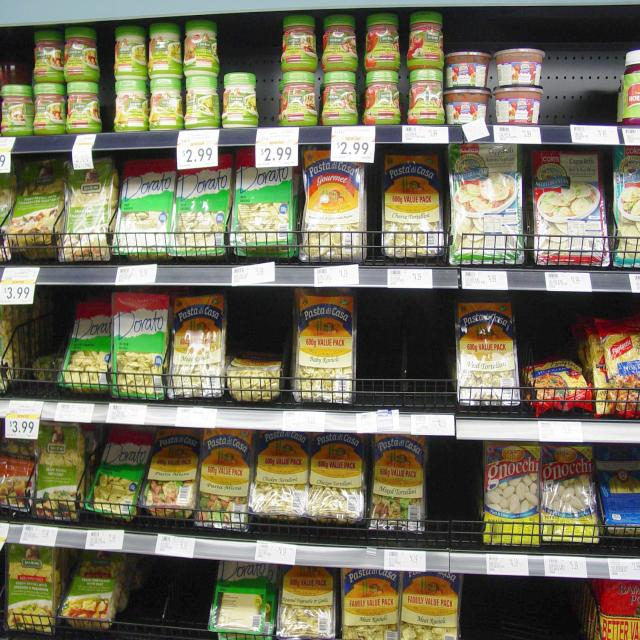empty_space: (363, 309, 451, 395), (464, 590, 588, 640), (552, 44, 616, 120), (130, 568, 202, 628), (430, 469, 482, 539), (20, 309, 60, 377), (239, 312, 285, 350)
